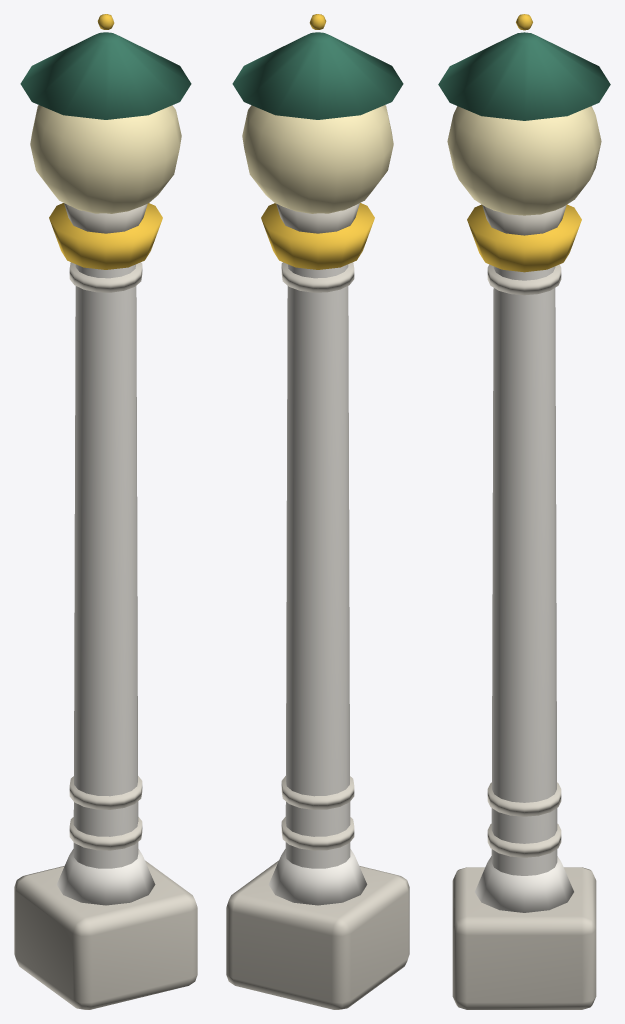
The model's file is lamp_grand_a.glb.
The picture shows the model from 3 angles, left to right: view 1: azimuth 30°, elevation 25°; view 2: azimuth 150°, elevation 25°; view 3: azimuth 270°, elevation 25°; orthographic projection.
Size of the model in its own units: 0.84 by 5.21 by 0.84.
